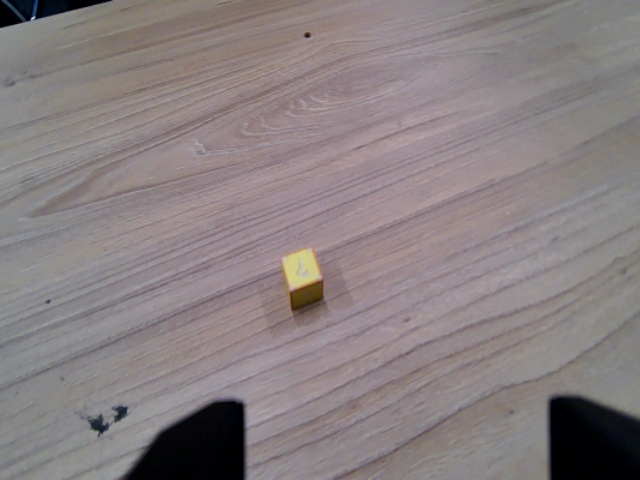lucky: (274, 247, 334, 312)
